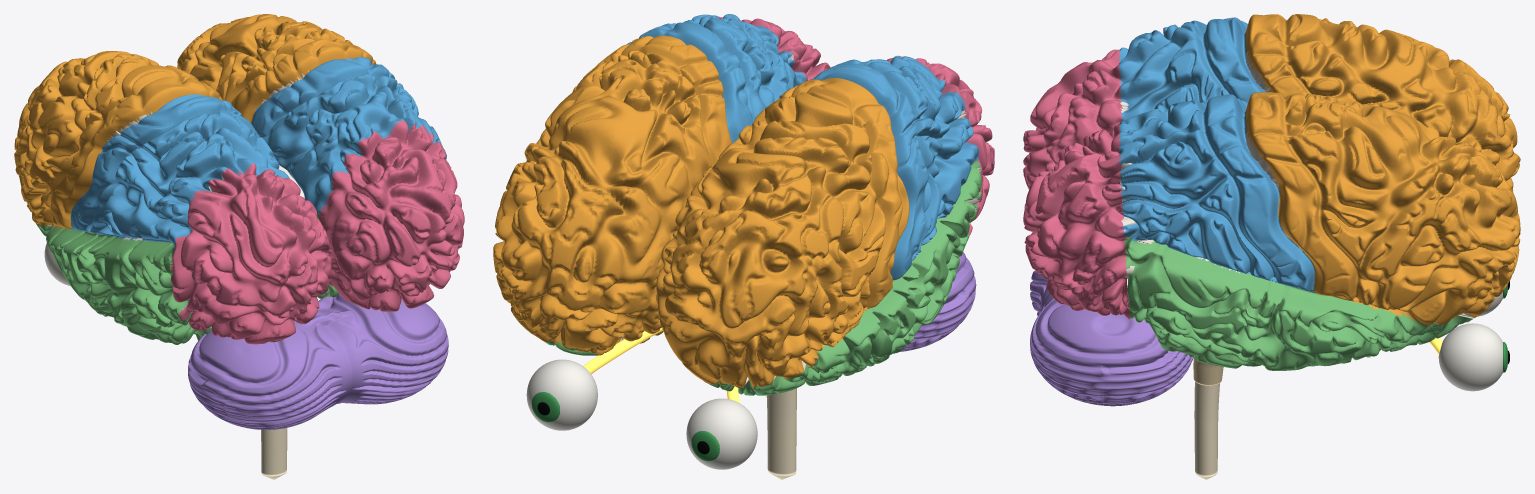
File: brain.glb
3 views of the same model, side by side, from view 1: azimuth 30°, elevation 25°; view 2: azimuth 150°, elevation 25°; view 3: azimuth 270°, elevation 25° (orthographic). The views are drawn at different scales.
Visible parts, largest first — view 1: Kleinhirn, Okzipital_L, Okzipital_R, Parietal_L, Frontal_L, Parietal_R, Frontal_R, Temporal_L, Motor_L, Somato_L, Motor_R, Somato_R (+3 smaller); view 2: Frontal_L, Frontal_R, Parietal_L, Temporal_L, Motor_L, Somato_L, Parietal_R, Motor_R, Auge_L, Auge_R, Somato_R, Hoer_L (+9 smaller); view 3: Frontal_R, Temporal_R, Frontal_L, Parietal_R, Okzipital_R, Kleinhirn, Motor_R, Somato_R, Parietal_L, Okzipital_L, Hoer_R, Auge_R (+5 smaller).
Boxes of the visible parts, x1=… form: Kleinhirn: x1=188, y1=293, x2=448, y2=429; Okzipital_L: x1=170, y1=163, x2=331, y2=344; Okzipital_R: x1=319, y1=120, x2=464, y2=311; Parietal_L: x1=83, y1=111, x2=289, y2=248; Frontal_L: x1=14, y1=51, x2=198, y2=232; Parietal_R: x1=268, y1=74, x2=446, y2=212; Frontal_R: x1=177, y1=14, x2=352, y2=104; Temporal_L: x1=36, y1=223, x2=211, y2=344; Motor_L: x1=50, y1=76, x2=222, y2=228; Somato_L: x1=70, y1=94, x2=242, y2=231; Motor_R: x1=232, y1=39, x2=376, y2=123; Somato_R: x1=251, y1=57, x2=394, y2=144; Frontal_L: x1=656, y1=92, x2=885, y2=388; Frontal_R: x1=493, y1=50, x2=711, y2=355; Parietal_L: x1=814, y1=55, x2=978, y2=255; Temporal_L: x1=709, y1=164, x2=972, y2=395; Motor_L: x1=752, y1=78, x2=909, y2=311; Somato_L: x1=797, y1=64, x2=931, y2=280; Parietal_R: x1=662, y1=14, x2=806, y2=121; Motor_R: x1=596, y1=35, x2=731, y2=165; Auge_L: x1=686, y1=398, x2=757, y2=469; Auge_R: x1=526, y1=359, x2=597, y2=430; Somato_R: x1=627, y1=22, x2=752, y2=143; Hoer_L: x1=885, y1=224, x2=955, y2=318; Frontal_R: x1=1285, y1=93, x2=1520, y2=325; Temporal_R: x1=1124, y1=236, x2=1472, y2=370; Frontal_L: x1=1285, y1=14, x2=1520, y2=191; Parietal_R: x1=1118, y1=99, x2=1314, y2=291; Okzipital_R: x1=1023, y1=124, x2=1130, y2=319; Kleinhirn: x1=1030, y1=270, x2=1193, y2=406; Motor_R: x1=1245, y1=92, x2=1357, y2=301; Somato_R: x1=1204, y1=94, x2=1315, y2=291; Parietal_L: x1=1118, y1=20, x2=1231, y2=121; Okzipital_L: x1=1023, y1=49, x2=1122, y2=189; Hoer_R: x1=1200, y1=267, x2=1319, y2=332; Auge_R: x1=1438, y1=323, x2=1502, y2=391.
Bounding box in the file's own units: 13.76 × 16.36 × 17.56.
